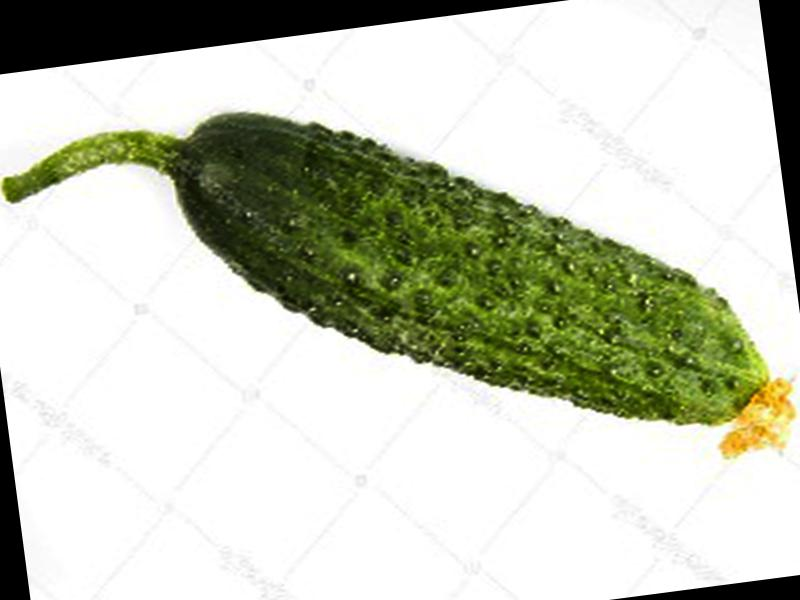Cucumber: (3, 45, 800, 551)
